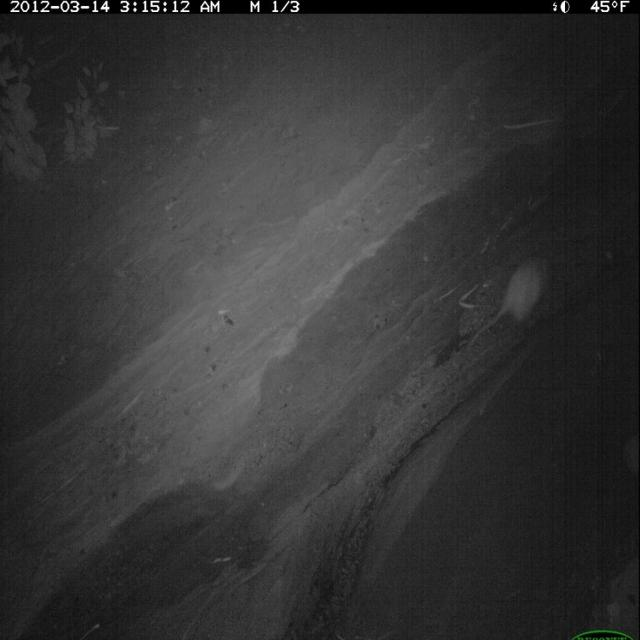opossum: (464, 246, 561, 359)
